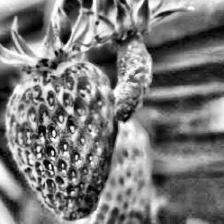Gray Mold: (111, 25, 153, 124)
